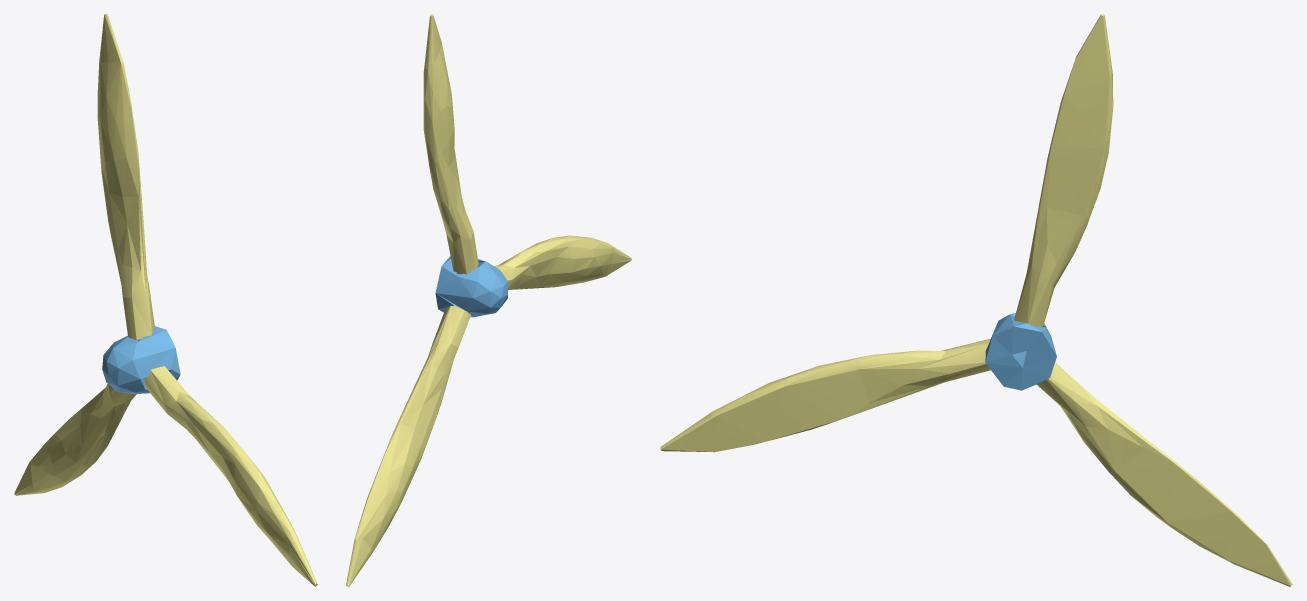
Rendered from rotor.dae.
3 views of the same model, side by side, from view 1: azimuth 30°, elevation 25°; view 2: azimuth 150°, elevation 25°; view 3: azimuth 270°, elevation 25° (orthographic). The views are drawn at different scales.
Parts seen in each view (by area): view 1: Blade1, Blade2, Blade, Rotor; view 2: Blade, Blade1, Blade2, Rotor; view 3: Blade2, Blade1, Blade, Rotor.
Boxes of the visible parts, box(x1,y1,x2,y2) form: Blade1: box(97, 14, 154, 339); Blade2: box(144, 366, 317, 586); Blade: box(14, 383, 136, 495); Rotor: box(102, 326, 180, 394); Blade: box(346, 305, 470, 586); Blade1: box(423, 14, 478, 274); Blade2: box(494, 235, 631, 289); Rotor: box(435, 256, 507, 317); Blade2: box(660, 338, 990, 452); Blade1: box(1014, 14, 1113, 327); Blade: box(1036, 362, 1292, 586); Rotor: box(985, 313, 1056, 390).
Size of the model in its own units: 3.05 by 27.6 by 27.55.
